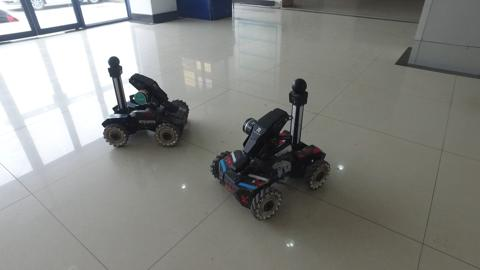chariot: (207, 75, 337, 221), (98, 52, 193, 152)
